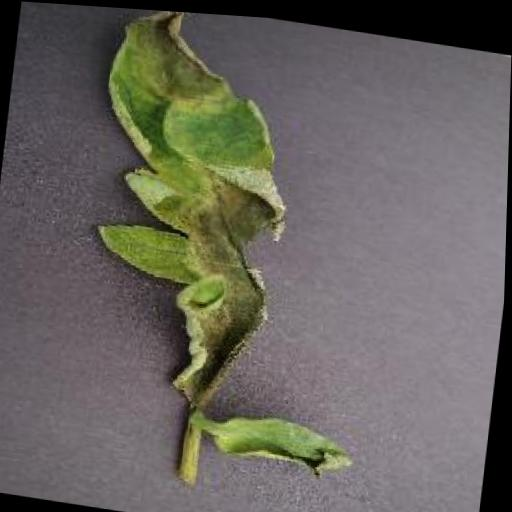Late Blight: (68, 4, 311, 418), (218, 408, 361, 477)
